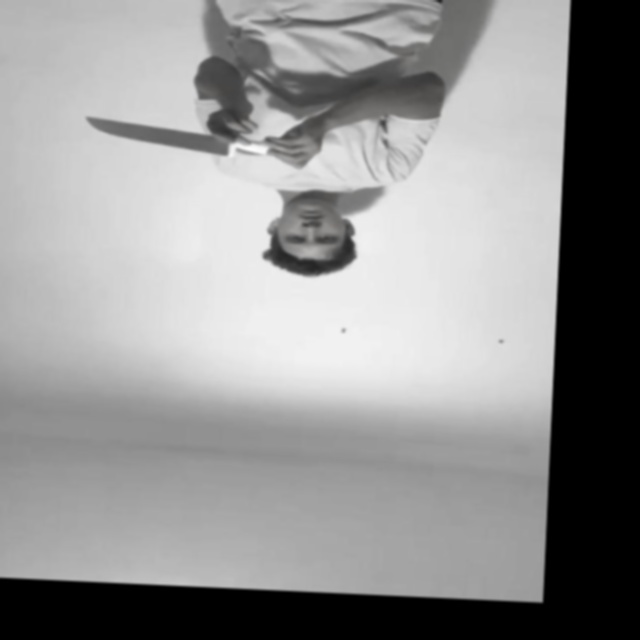Sharp-Object: (81, 114, 227, 160)
